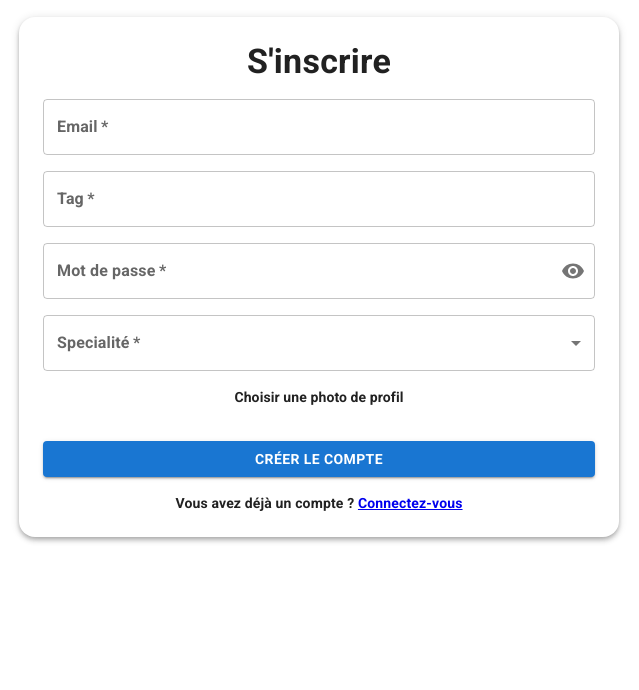
Scenario: RegisterPage › shows an error and does not submit when the email is invalid
Type "invalid-email" into the field labelled "Email *" at (319,127), box [43,99,595,155]
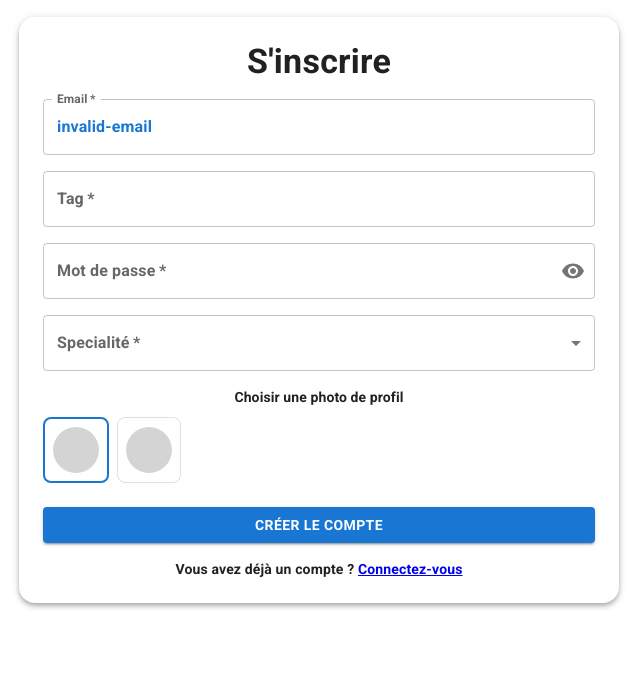
Type "lea" into the field labelled "Tag *" at (319,199), box [43,171,595,227]
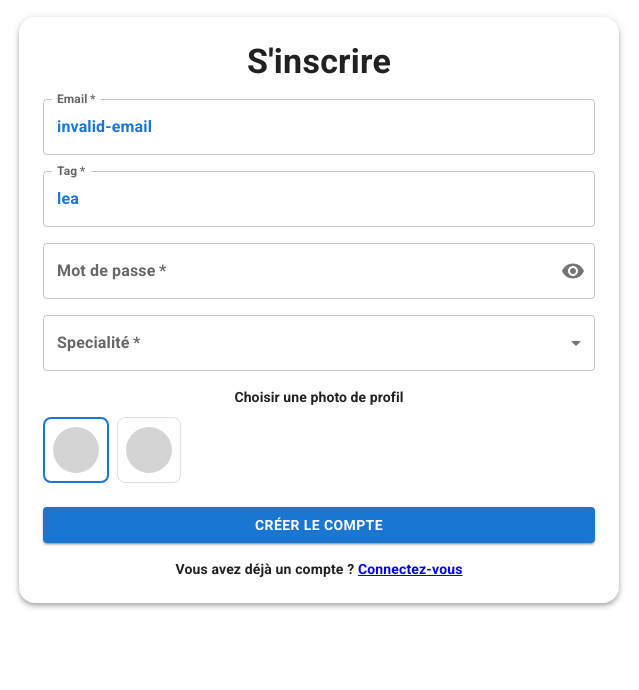
Type "Password123" into the password field labelled "Mot de passe *" at (294,271), box [43,243,545,299]
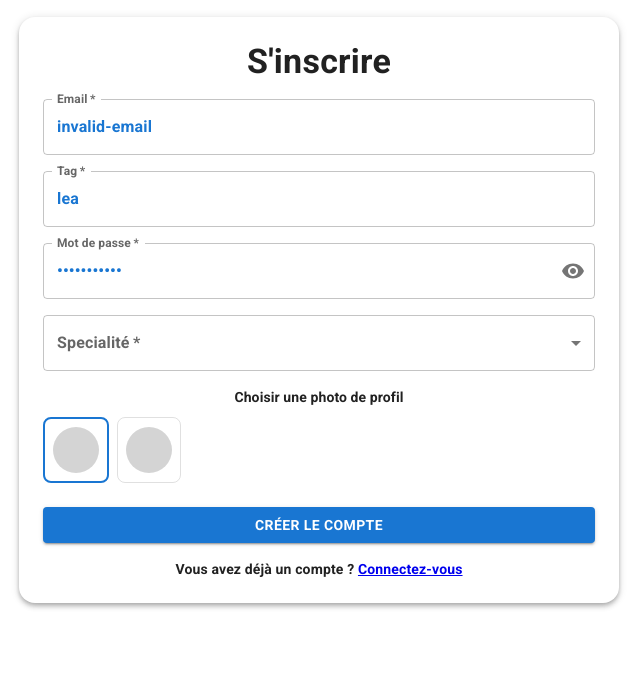
Press the mouse on the dropdown at (319,343), box [43,315,595,371]
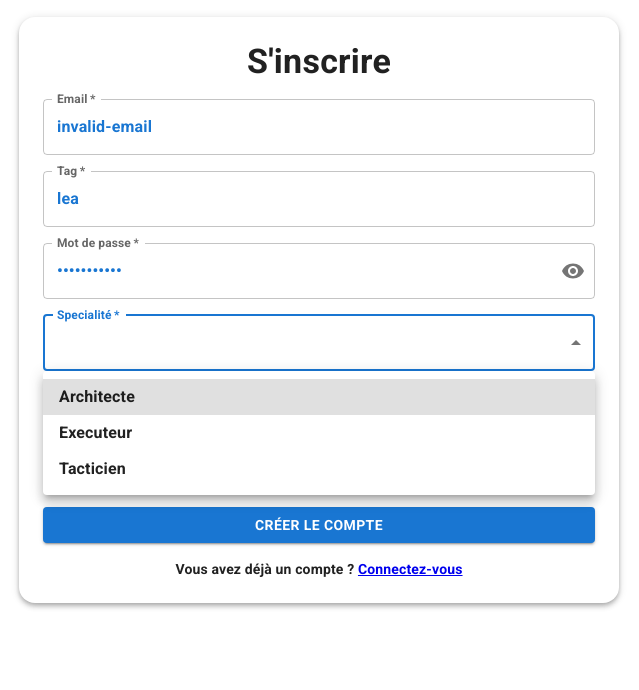
Click the option "Architecte" at (97,396), box [43,379,595,415]
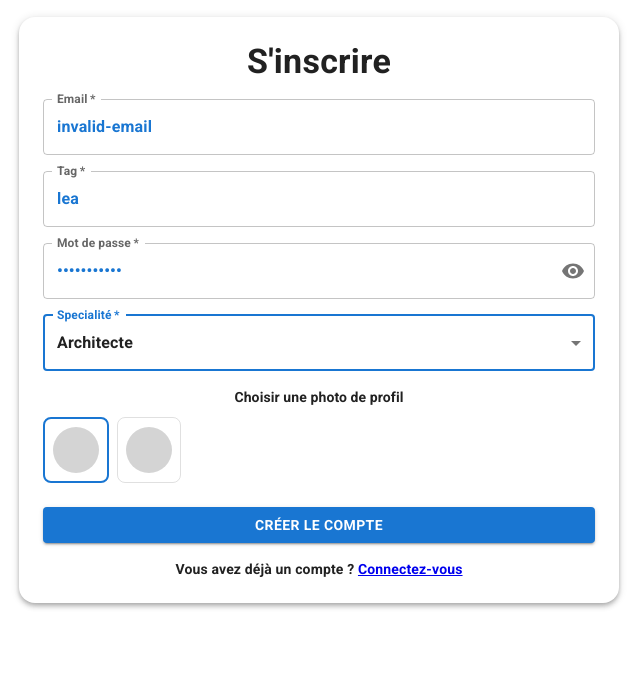
Submit the form, box [43,99,595,544]
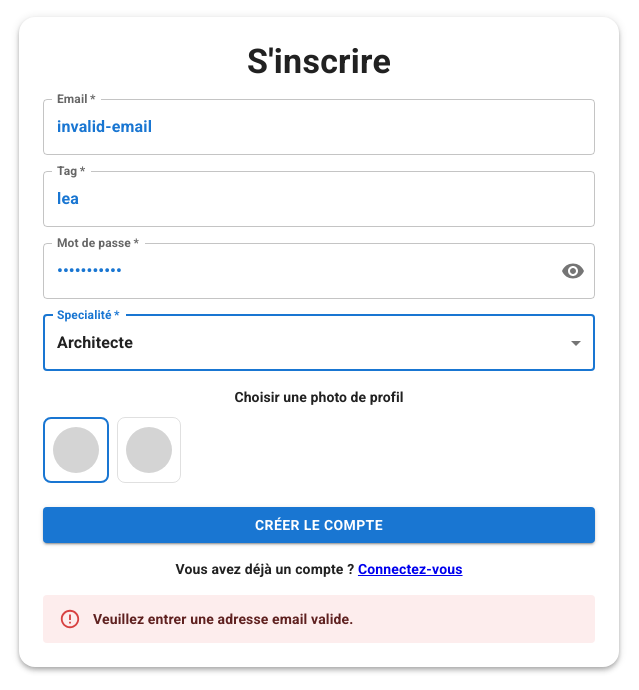
Check: the text "Veuillez entrer une adresse email valide." is shown, box [93,612,354,628]
